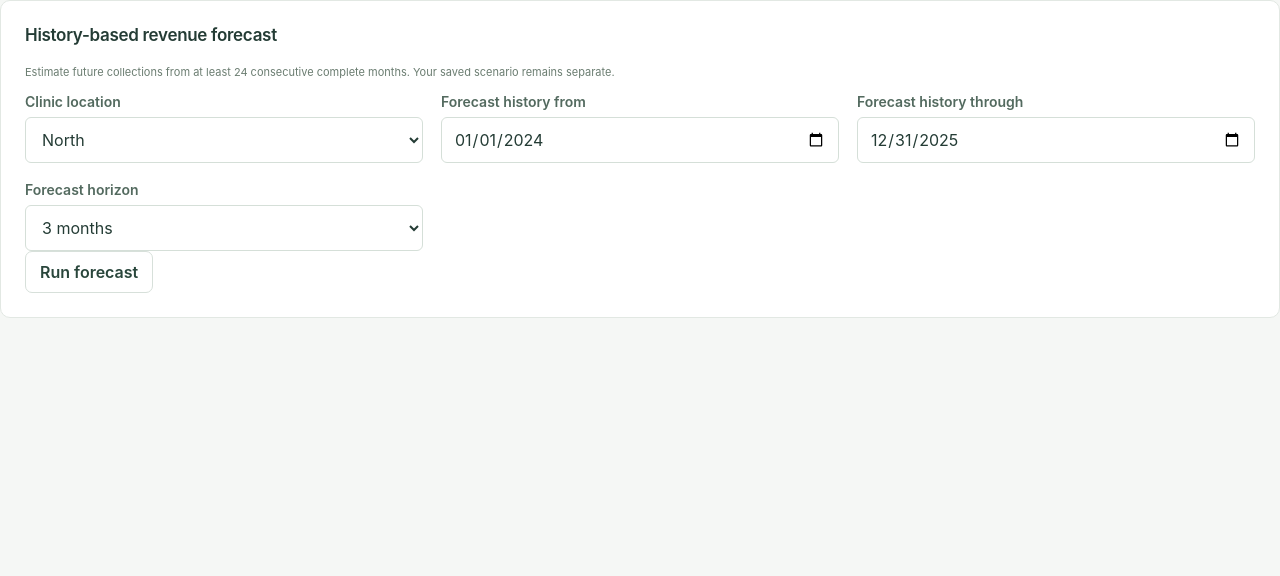
Scenario: refuses sparse history, renders a validated forecast and hides stale results after changing dates
Click the button "Run forecast" at (89, 272), box [25,251,153,293]
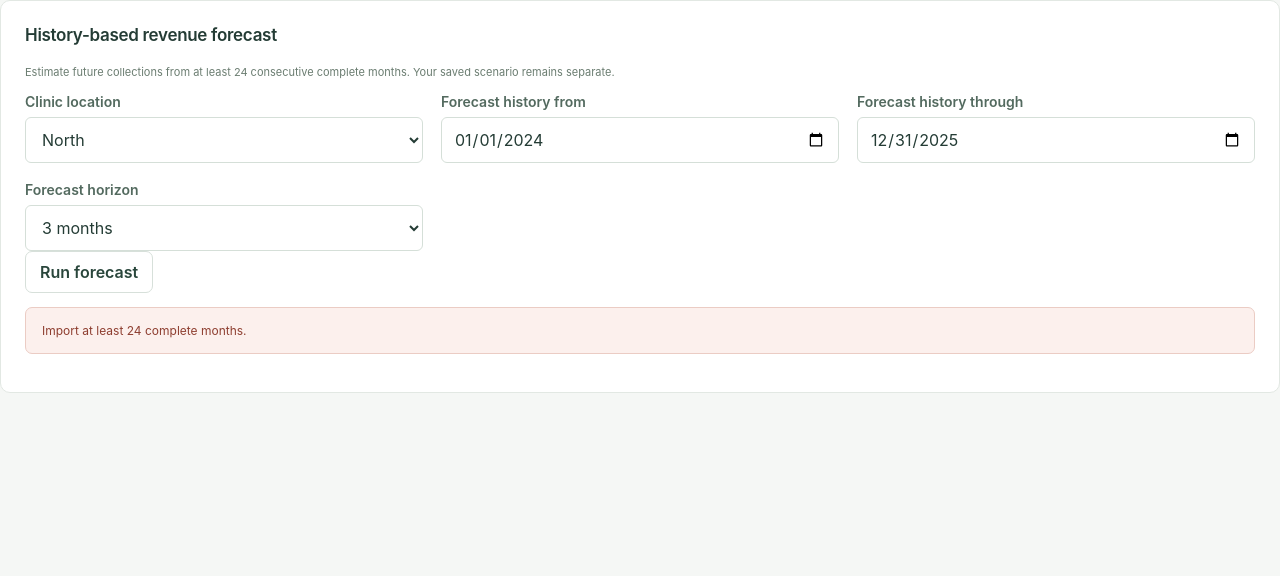
Check: the message shows "24 complete months", box [42,323,247,338]
Click the button "Run forecast" at (89, 272), box [25,251,153,293]
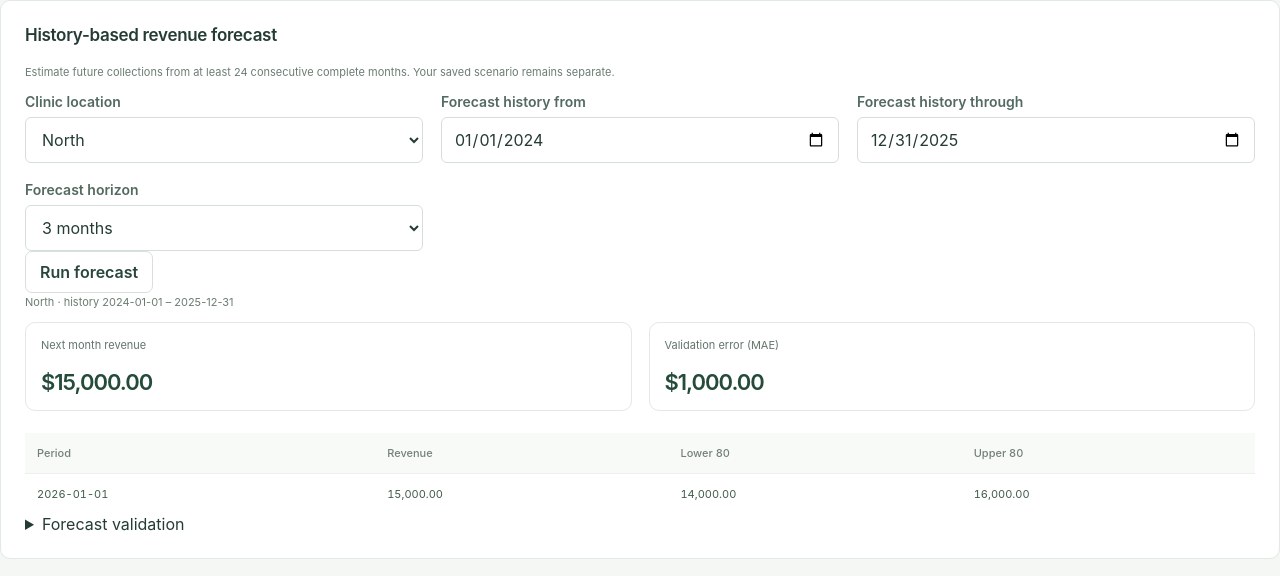
Check: the text "Next month revenue" is shown, box [41,338,146,352]
Type "2025-11-30" into the date field labelled "Forecast history through" at (1056, 140), box [857,117,1255,163]
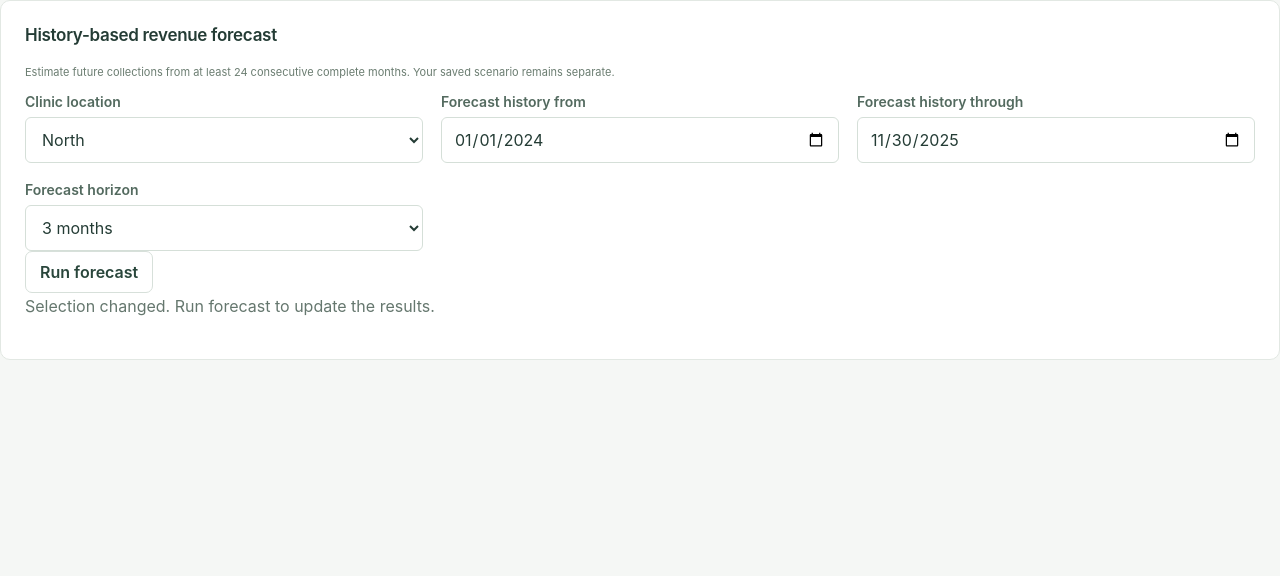
Check: the text "Next month revenue" is gone
Check: the text "Selection changed. Run forecast to update the results." is shown, box [25,296,435,316]
